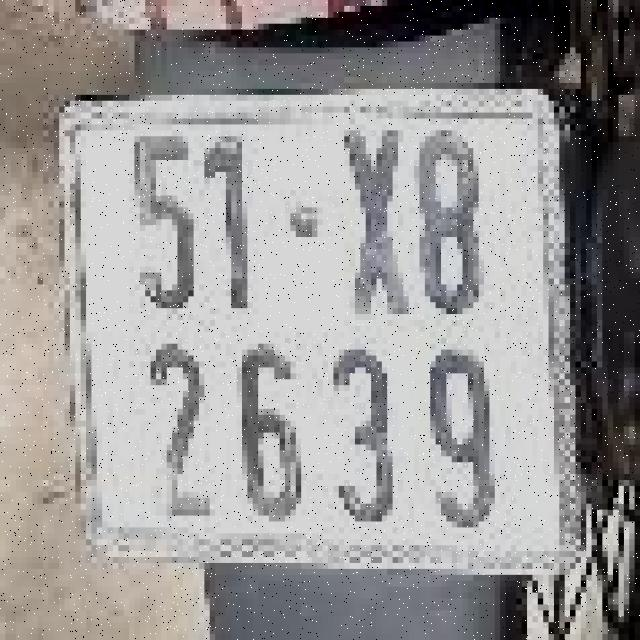1: (199, 121, 264, 323)
2: (140, 335, 220, 536)
3: (328, 335, 403, 536)
5: (129, 125, 199, 314)
6: (226, 335, 317, 524)
8: (417, 110, 503, 329)
9: (412, 332, 508, 533)
X: (331, 110, 411, 323)
